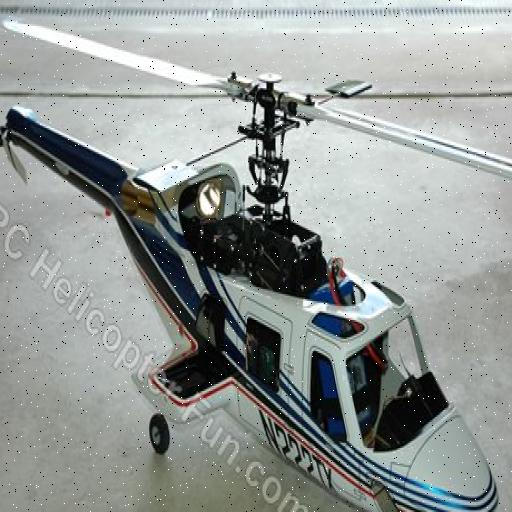helicopter: (8, 1, 503, 512)
